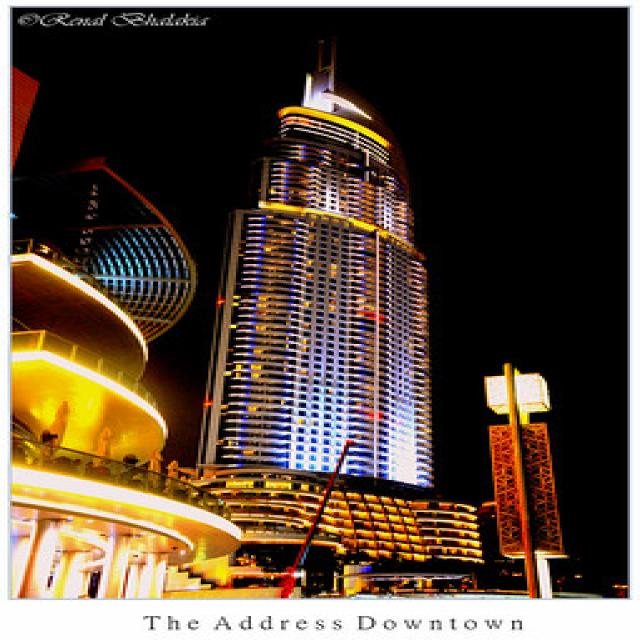Normal_building: (188, 53, 444, 515)
